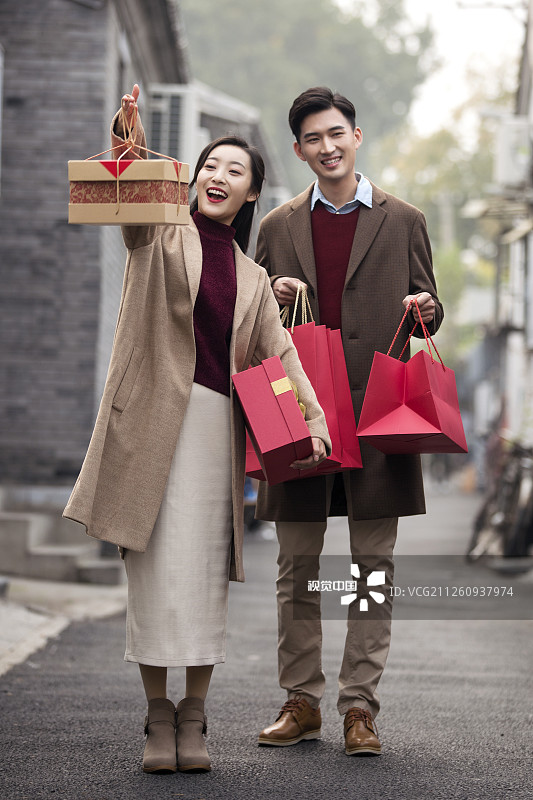no-phone: (107, 80, 148, 144), (393, 282, 448, 328), (264, 268, 314, 307)
